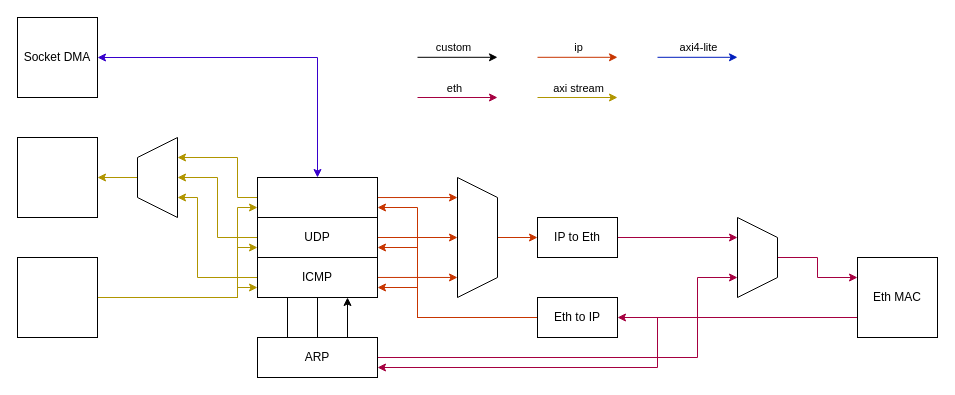
Image size: 955x395. Some labels were removed from this diagram. Each missing label, with the centre of its shape:
"RX DMA" goes at point 57,177.
"TCP" goes at point 317,197.
"TX DMA" goes at point 57,297.
